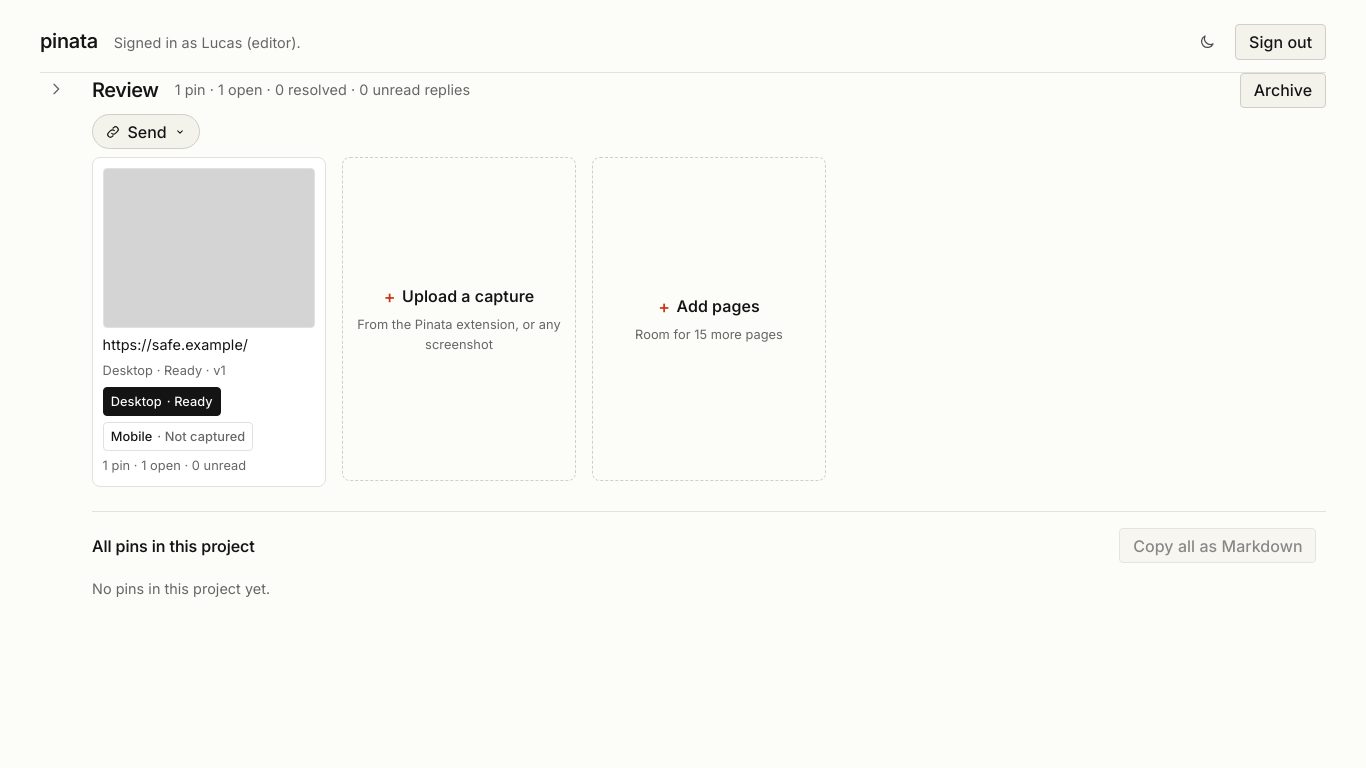
Test: editor live refresh (D097) › a live refresh started before Send closes cannot undo the newer reload's success
Click the button "Send": (146, 132) [92, 114, 200, 149]
Wait 20000 ms
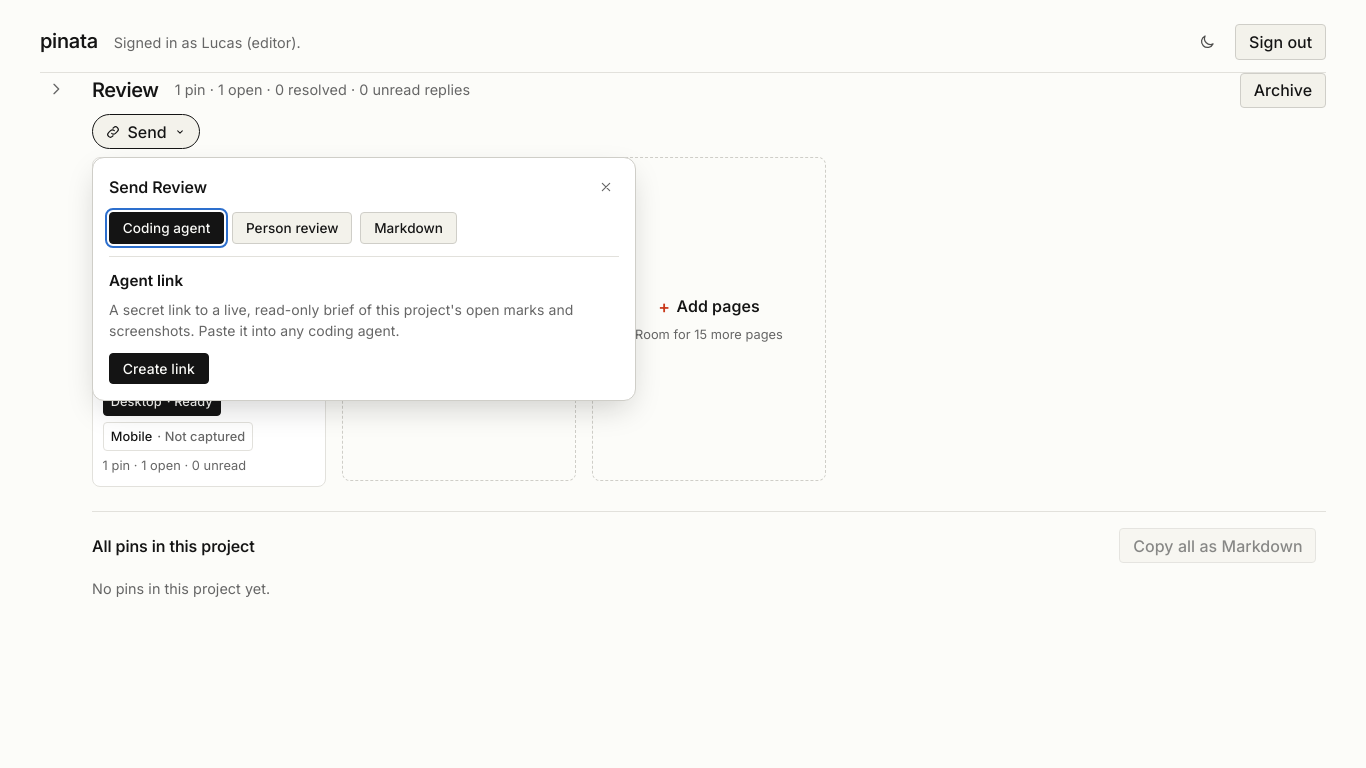
Click the button named "Close Send": (606, 187) [593, 174, 619, 200]
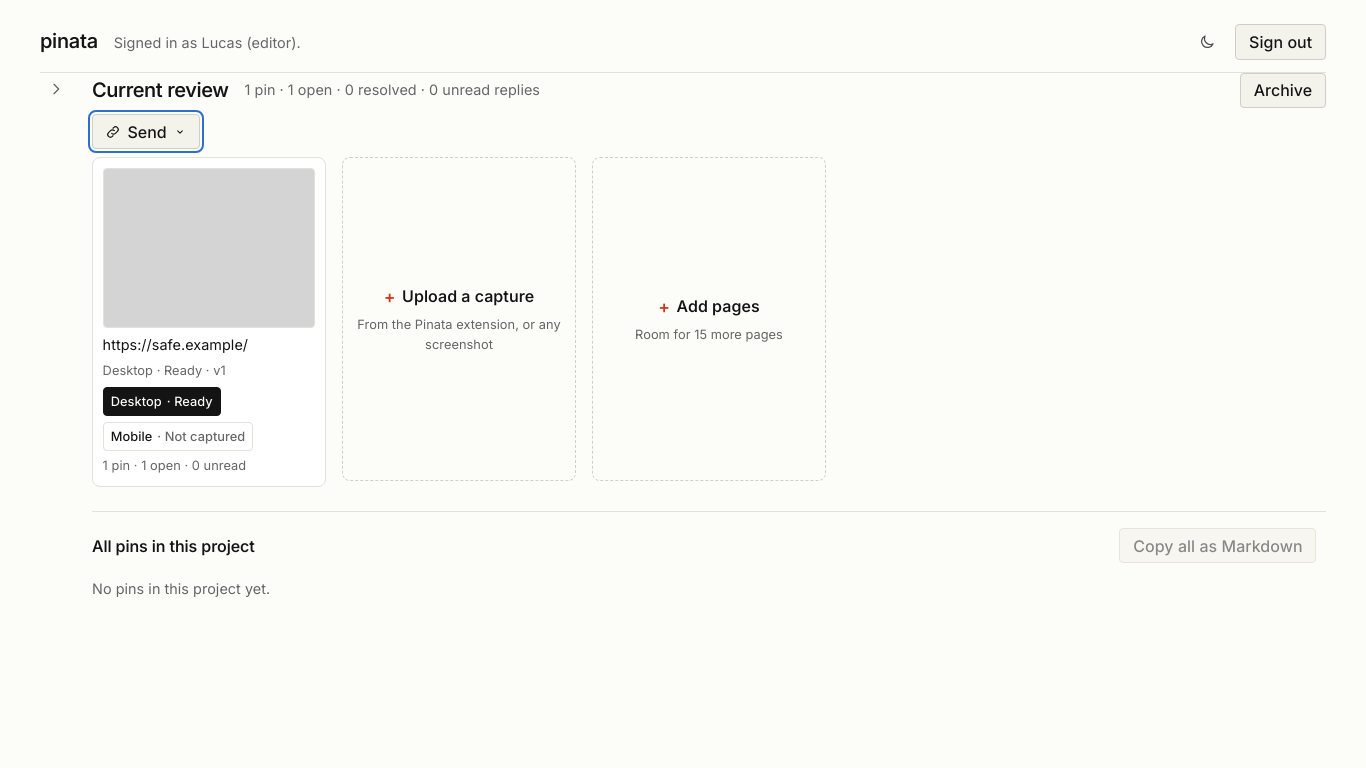
Expected: the heading with test id "project-title" reads "Current review", [92, 78, 228, 102]
